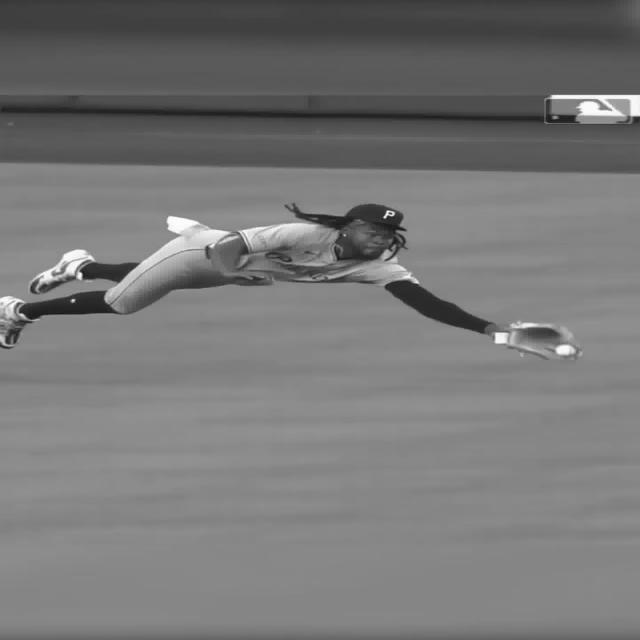baseball: (558, 346, 574, 357)
baseball_glove: (504, 319, 577, 363)
shoe: (33, 248, 93, 295), (0, 296, 38, 353)
